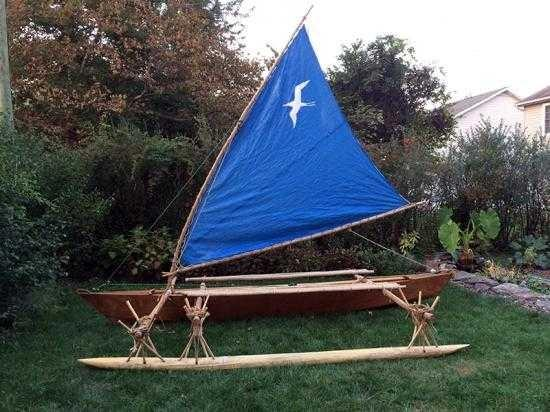kayak: (74, 2, 456, 341)
